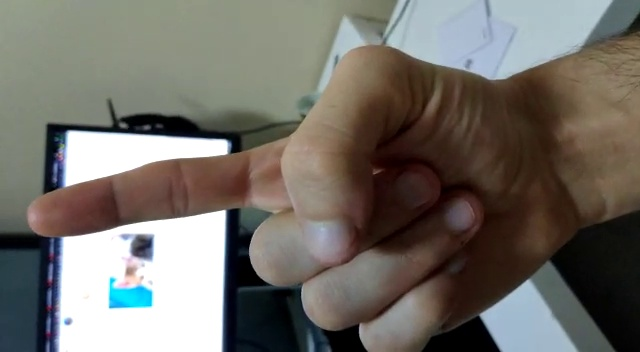One: (10, 32, 578, 352)
